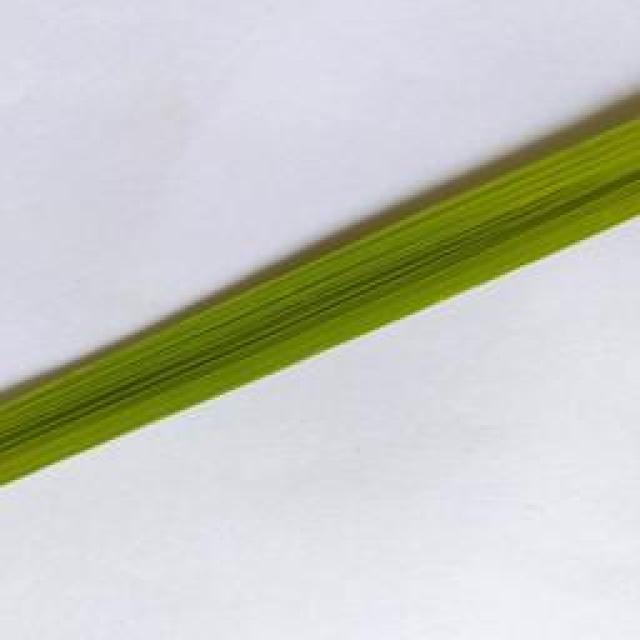Healthy-Plant: (306, 180, 478, 370), (472, 109, 640, 302), (0, 320, 175, 490), (164, 249, 320, 430)
